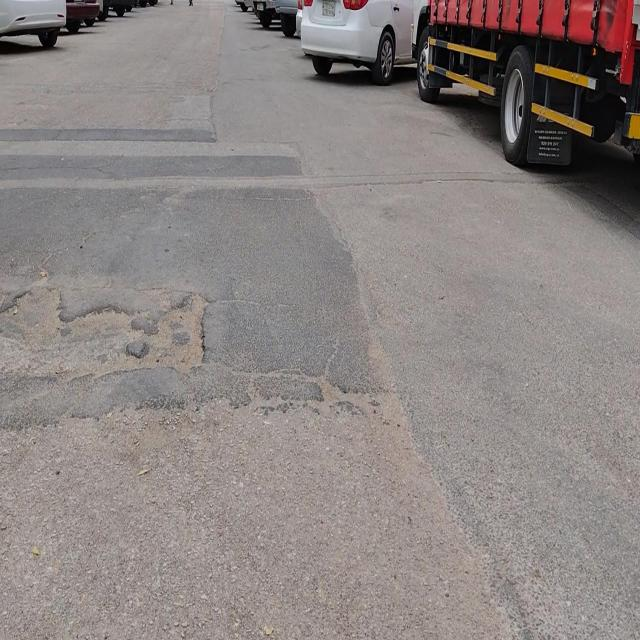Potholes: (124, 286, 211, 383), (57, 304, 137, 383)
